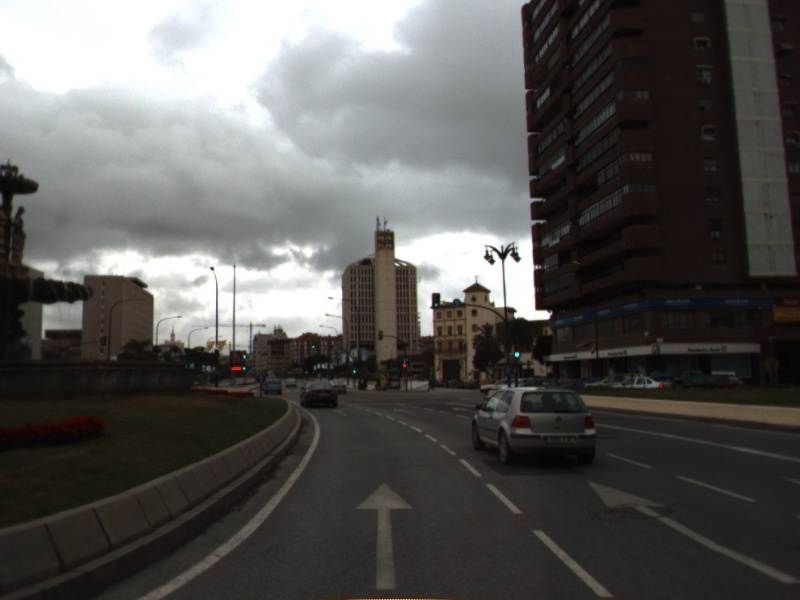STRAIGHT: (583, 477, 800, 586), (352, 477, 418, 592)
